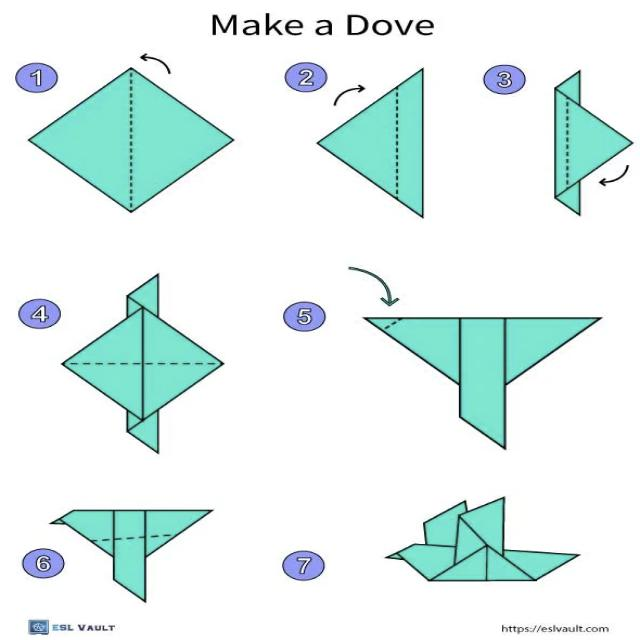arrow: (349, 267, 399, 306), (334, 85, 365, 106), (599, 165, 629, 186), (140, 54, 171, 74)
fold-line: (125, 66, 139, 214), (81, 530, 184, 547), (391, 84, 404, 204), (57, 360, 228, 369), (562, 92, 573, 192), (367, 313, 412, 337)
